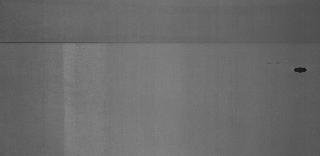punching hole: (292, 65, 308, 75)
welding line: (2, 38, 318, 48)
